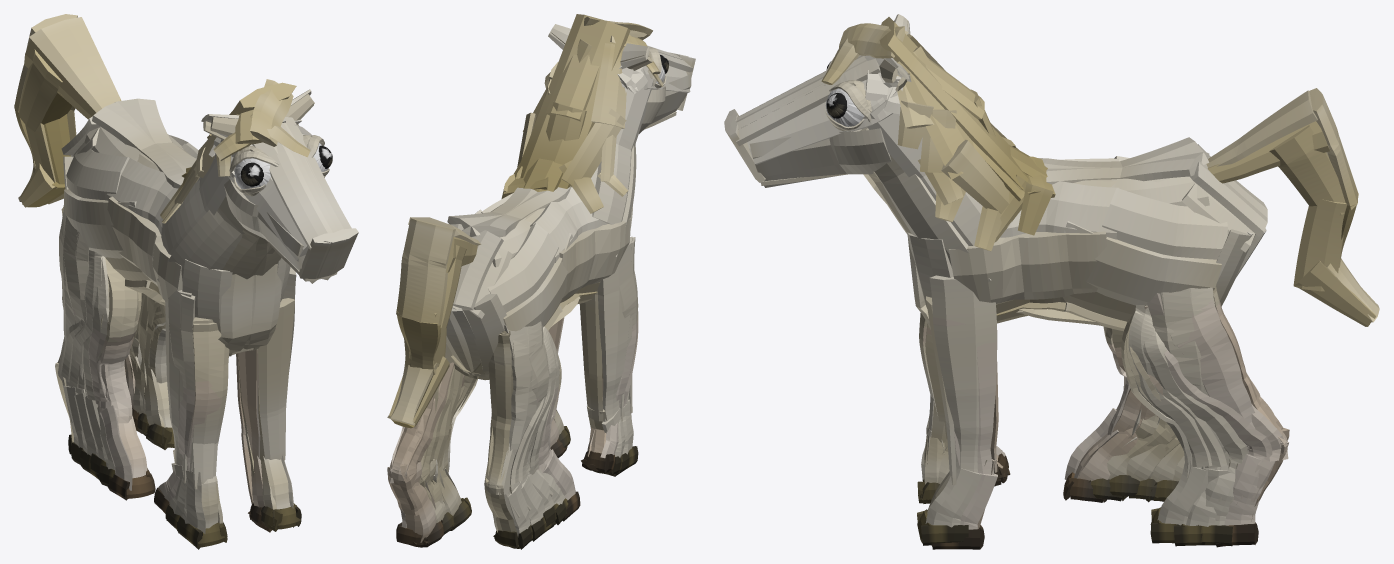
Rendered from Horse-s-IdleToWalk.fbx.
3 renders of one model, left to right at view 1: azimuth 30°, elevation 25°; view 2: azimuth 150°, elevation 25°; view 3: azimuth 270°, elevation 25°, orthographic. The views are drawn at different scales.
Visible parts, largest first — view 1: Lbfoot; view 2: Lbfoot; view 3: Lbfoot.
Boxes of the visible parts, left/top/right/bottom form: Lbfoot: left=14, top=14, right=358, bottom=549; Lbfoot: left=387, top=14, right=695, bottom=549; Lbfoot: left=724, top=14, right=1379, bottom=549.
Bounding box in the file's own units: 0.649 × 2.28 × 2.7.
